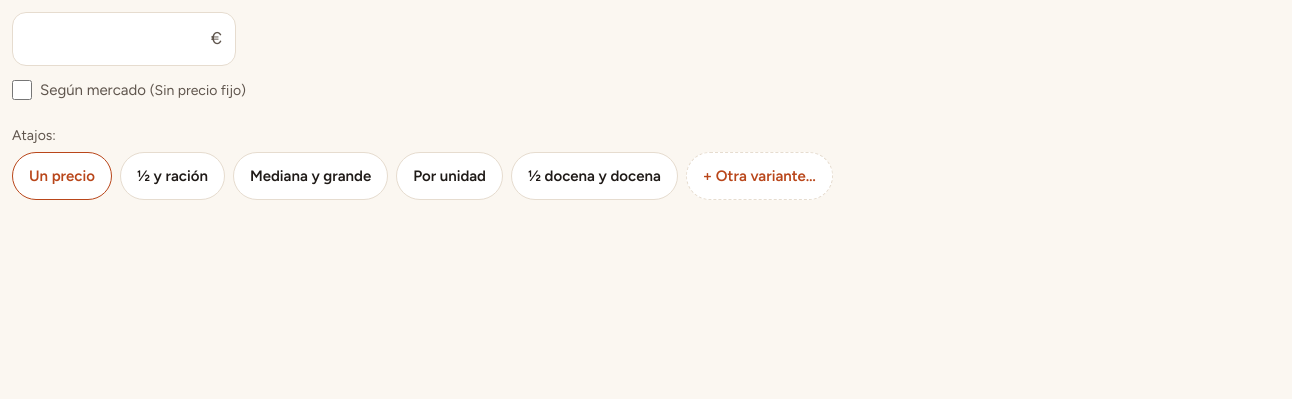
Test: EditorPrecios › quitar filas: con una sola, vuelve a poder ser «sin etiqueta»
The image size is (1292, 399).
Click the button "½ y ración": (172, 176) [120,152,225,200]
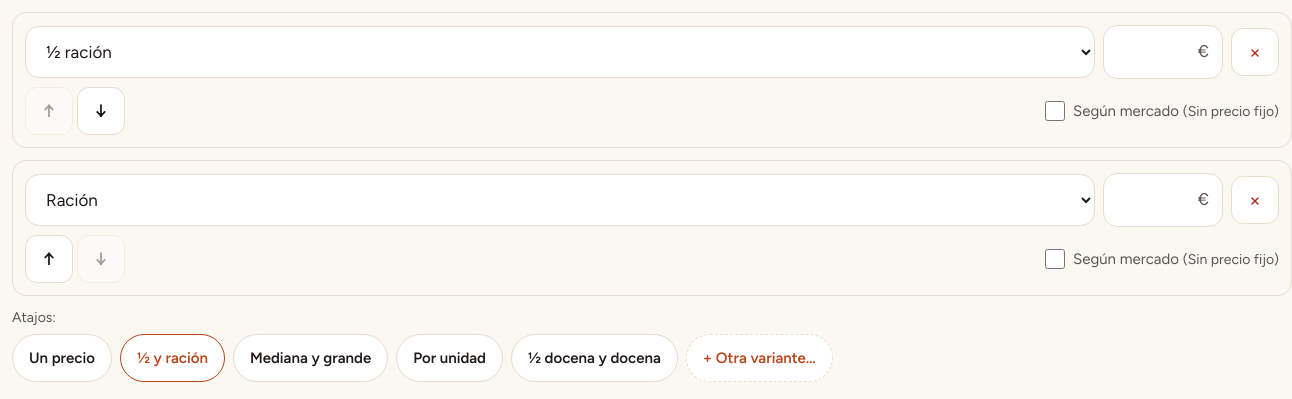
Click the button named "Quitar ½ ración": (1255, 52) [1231,28,1279,76]
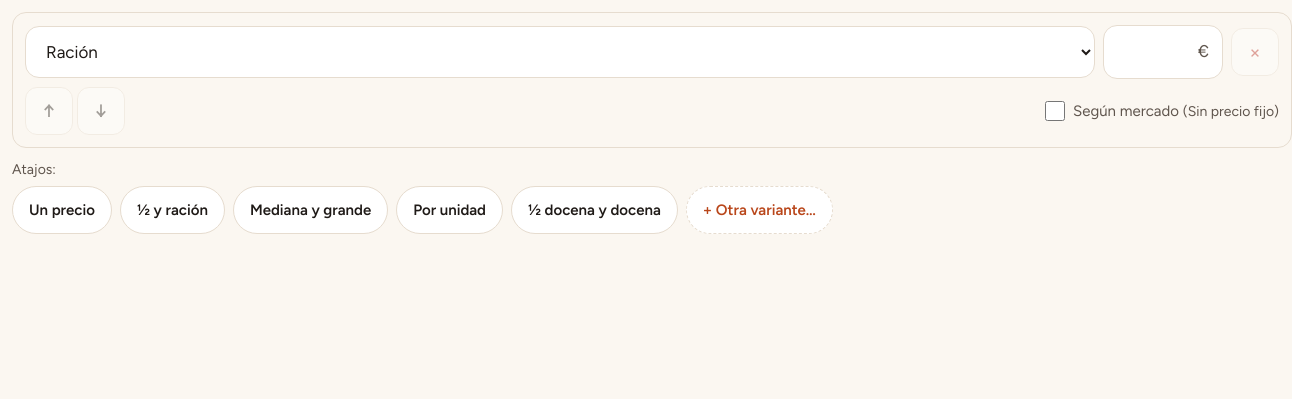
Select "Sin etiqueta" in the dropdown: (560, 52) [25,26,1095,78]
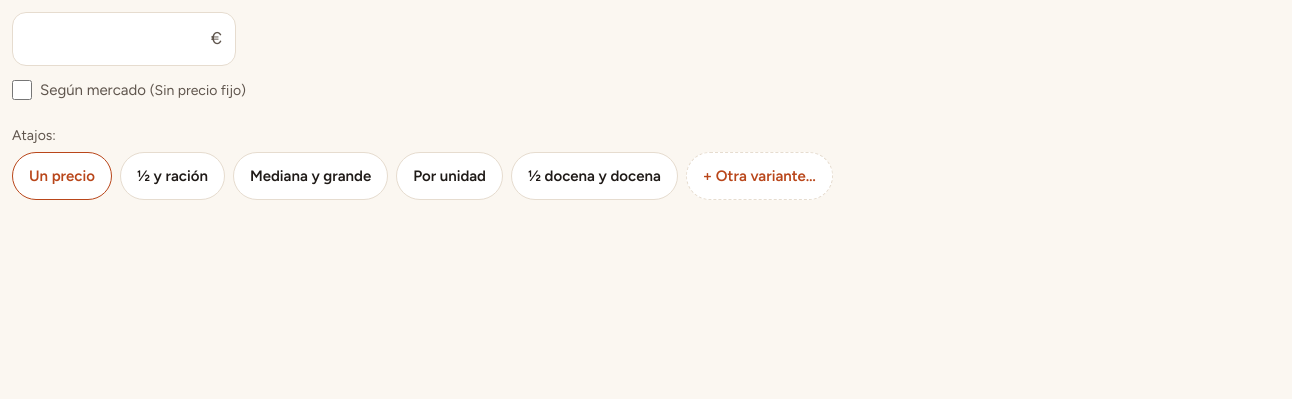
Expected: the dropdown is gone
